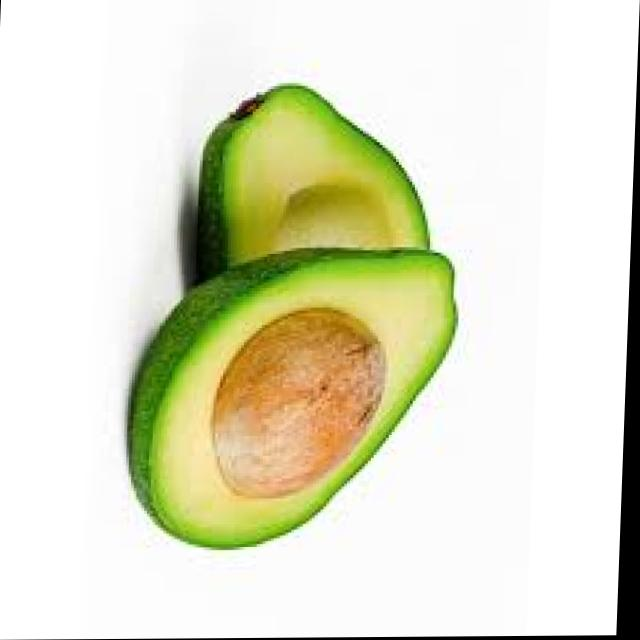Bo: (122, 81, 472, 561)
